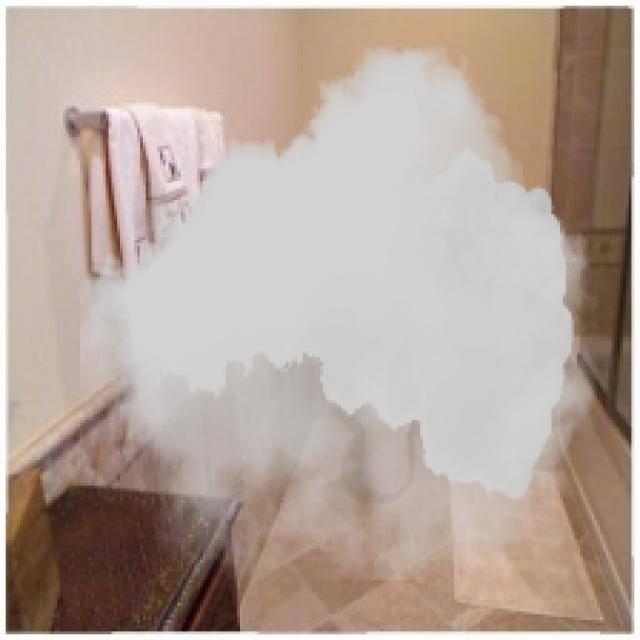smoke: (80, 46, 597, 580)
